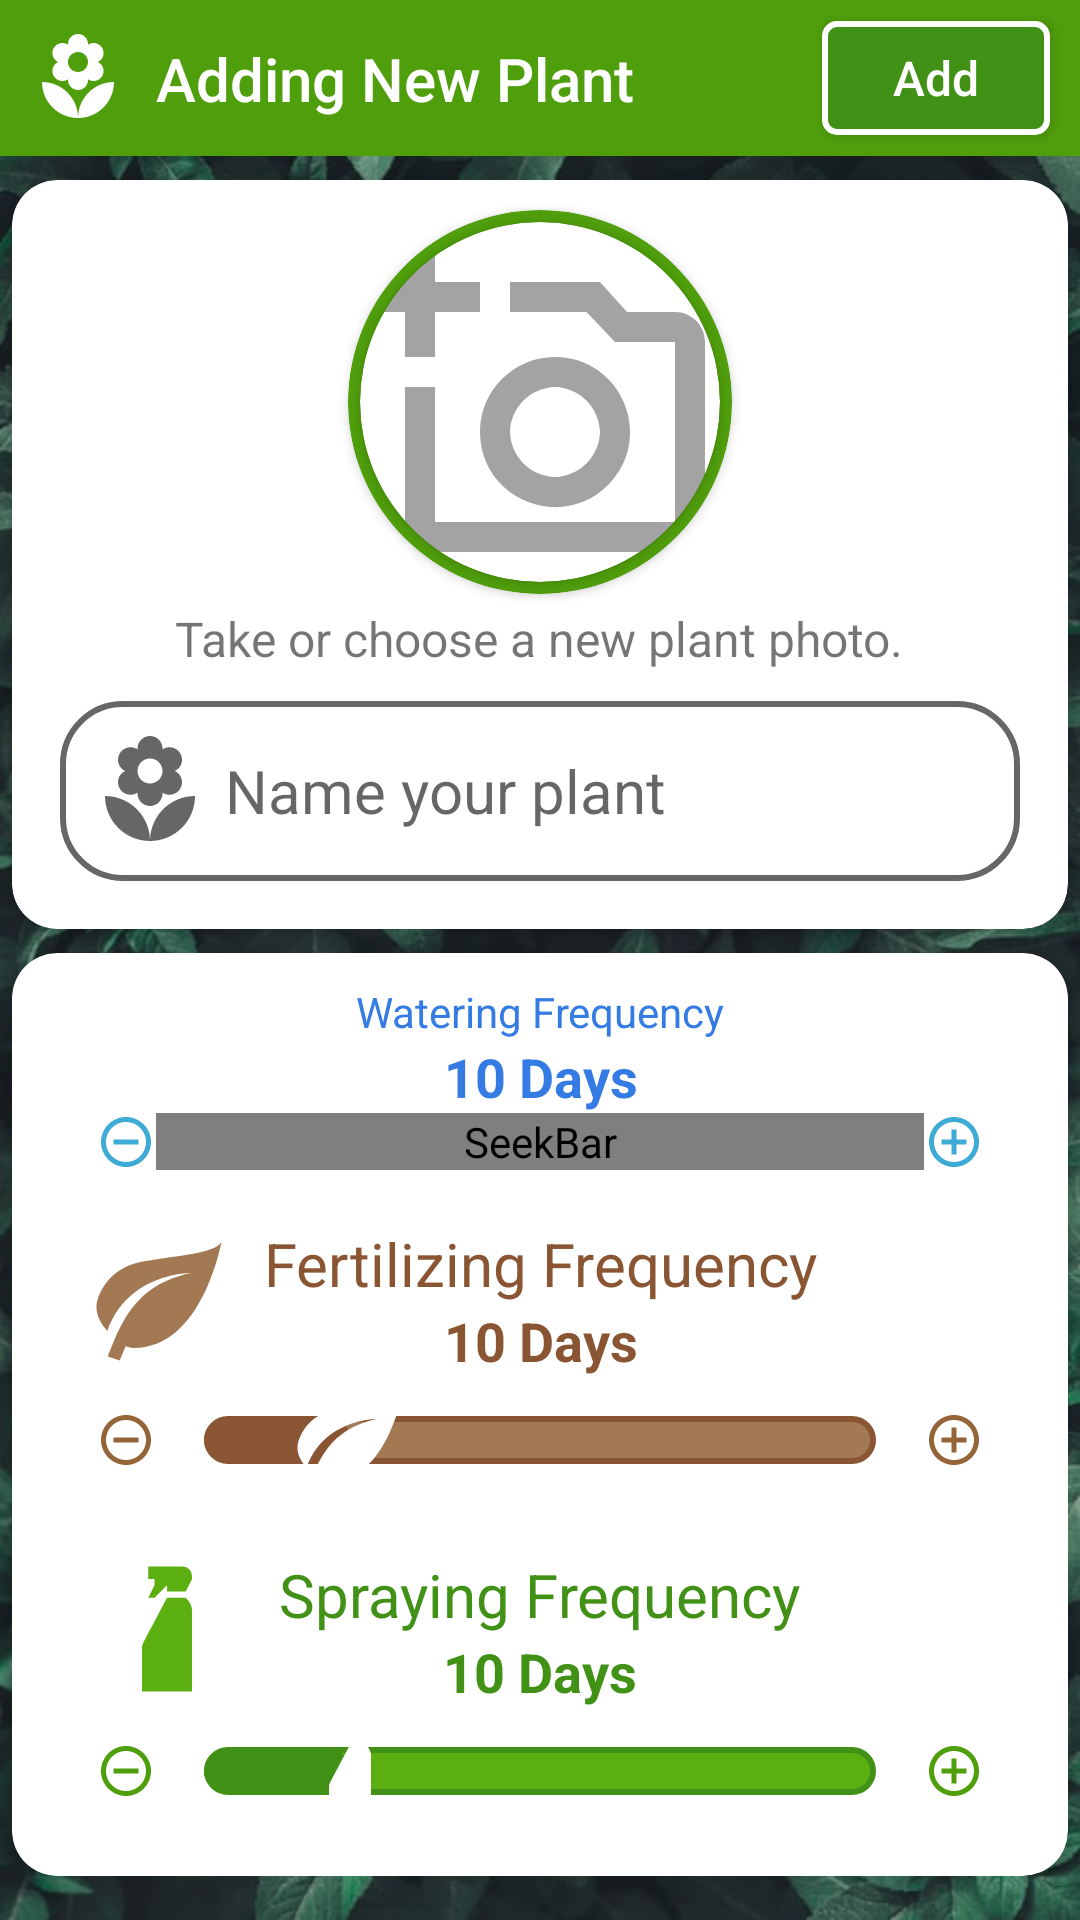

Where icons sit on this 1080 x 1920 app screen, as (x1, y1, x2, y2):
add circle: (929, 1117, 979, 1167), (929, 1415, 979, 1465), (929, 1746, 979, 1796)
remove circle: (101, 1117, 151, 1167), (101, 1415, 151, 1465), (101, 1746, 151, 1796)
